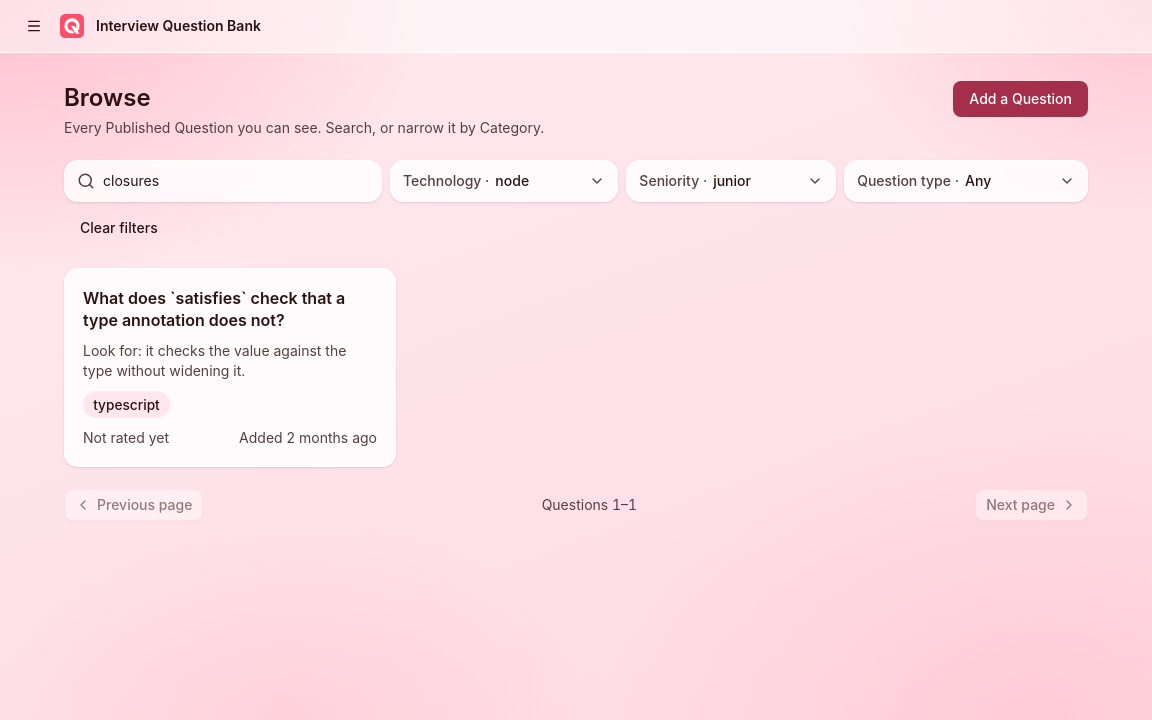
Test: filtering the bank › shows what the address names when the page is opened
Expected: the search field named "Search" holds "closures", [103,163,375,199]
Click the button "Technology · node". click: (504, 181)
box: [390,160,618,202]
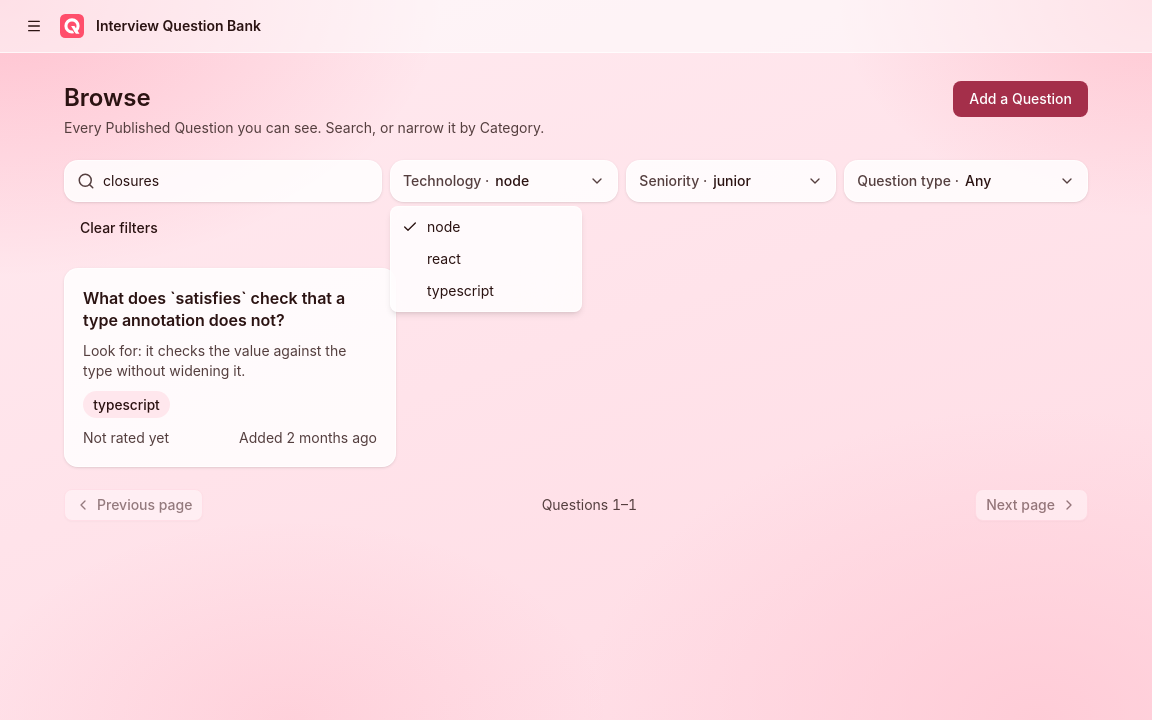
Now the menu item "node" is checked, box [402,218,460,235]
Now the menu item "react" is not checked, box [427,250,461,267]
